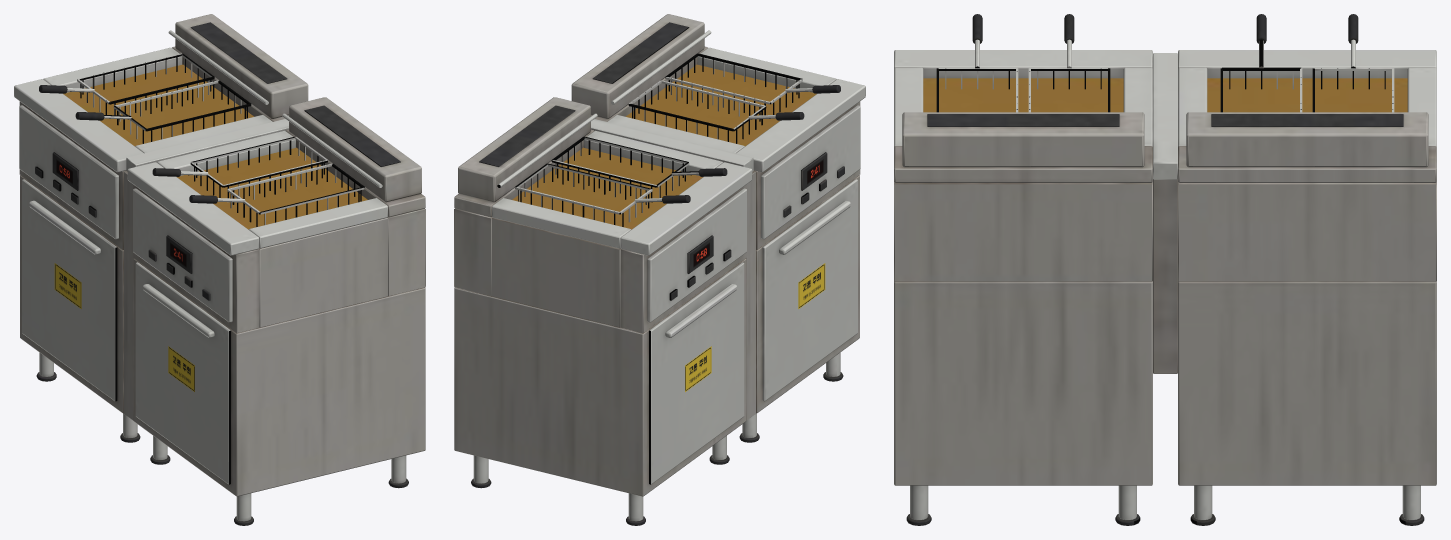
Rendered from PH_Fryer.fbx.
3 views of the same model, side by side, from view 1: azimuth 30°, elevation 25°; view 2: azimuth 150°, elevation 25°; view 3: azimuth 270°, elevation 25° (orthographic). The views are drawn at different scales.
Visible parts, largest first — view 1: PH_Fryer; view 2: PH_Fryer; view 3: PH_Fryer.
Part boxes in pixels (box(x1,y1,x2,y2)): PH_Fryer: box(14, 14, 425, 525); PH_Fryer: box(454, 14, 865, 525); PH_Fryer: box(894, 14, 1436, 525).
Bounding box in the file's own units: 0.6993 × 1.05 × 1.3.
